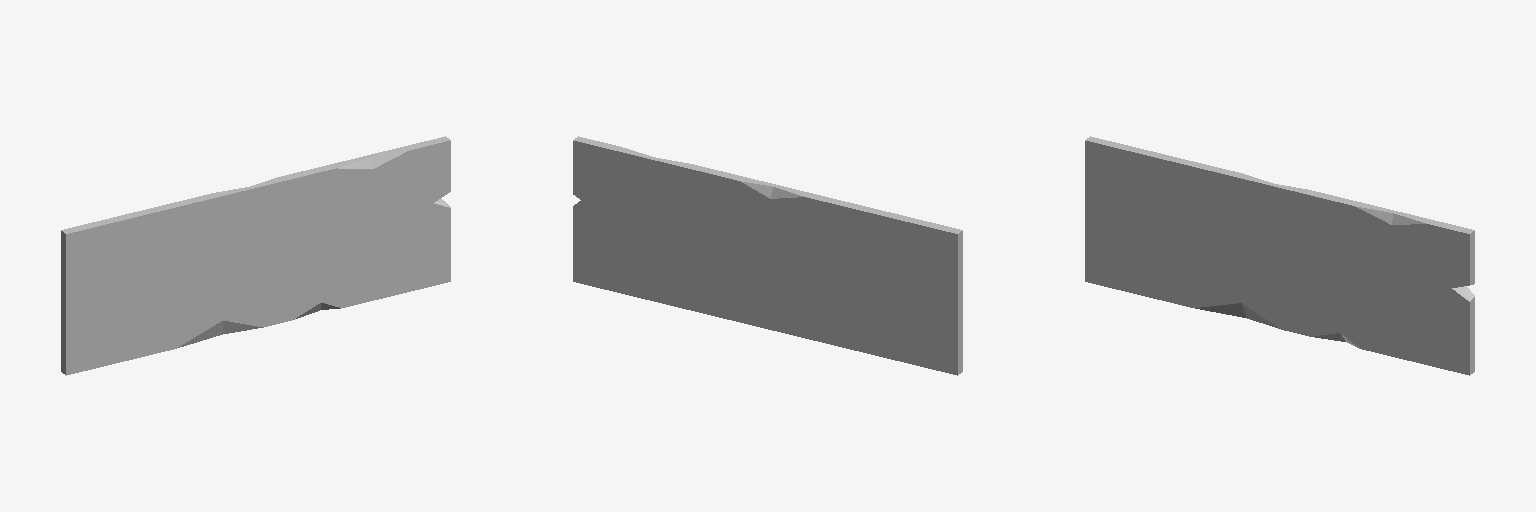
The model's file is SM_Prop_Sign_Oranges_01.obj.
3 views of the same model, side by side, from view 1: azimuth 30°, elevation 25°; view 2: azimuth 150°, elevation 25°; view 3: azimuth 330°, elevation 25° (orthographic).
Bounding box in the file's own units: 85.51 × 30.04 × 2.12.